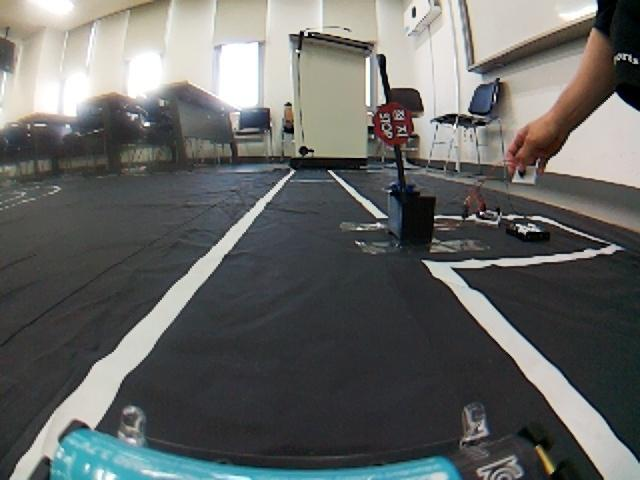sign_stop: (370, 99, 421, 150)
straight: (28, 277, 640, 479)
